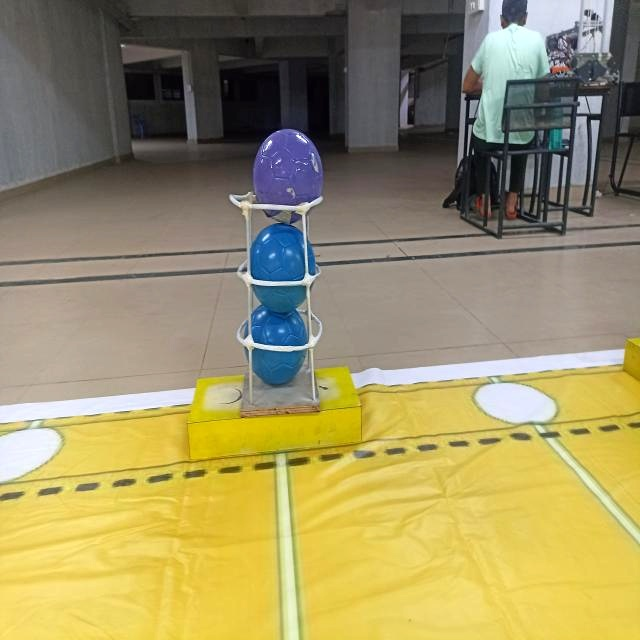blue_ball: (249, 226, 312, 317), (250, 304, 305, 384)
purple_ball: (252, 126, 322, 209)
silo: (225, 188, 334, 408)
